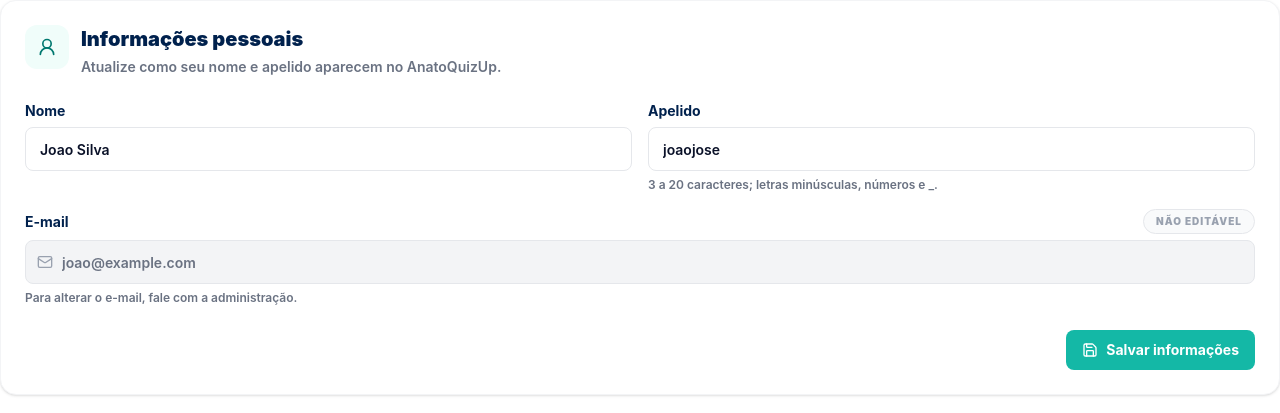
it: InformacoesPessoaisForm › mostra erro de campo quando apelido esta em uso
The width and height of the screenshot is (1280, 413).
Click the button "Salvar informações": (1161, 350) [1066, 330, 1255, 370]
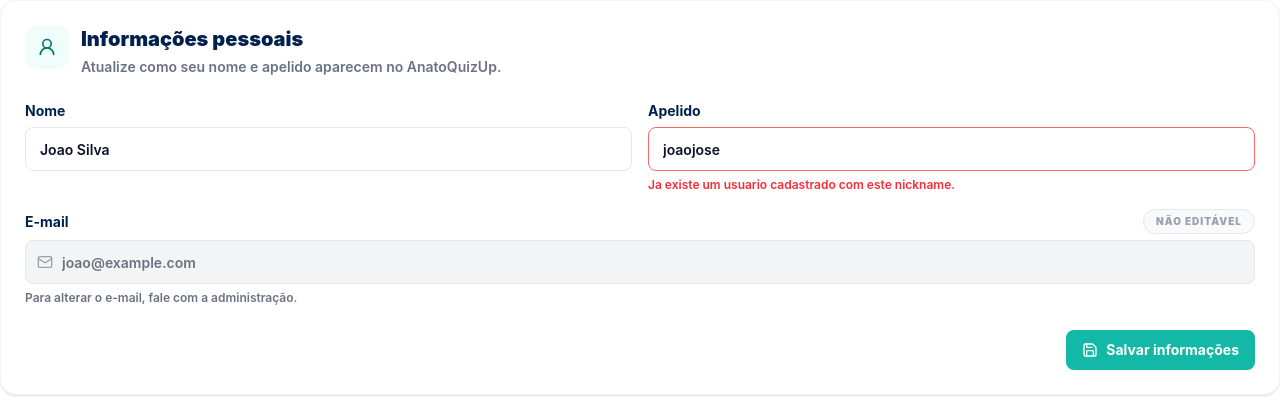
Result: the text "Ja existe um usuario cadastrado com este nickname." is shown at [648, 177, 955, 192]
